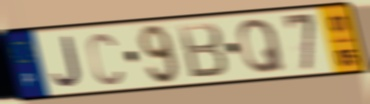7: (281, 12, 318, 74)
9: (136, 23, 181, 86)
B: (175, 20, 230, 81)
C: (86, 30, 124, 87)
J: (51, 34, 84, 89)
Q: (237, 17, 288, 76)
